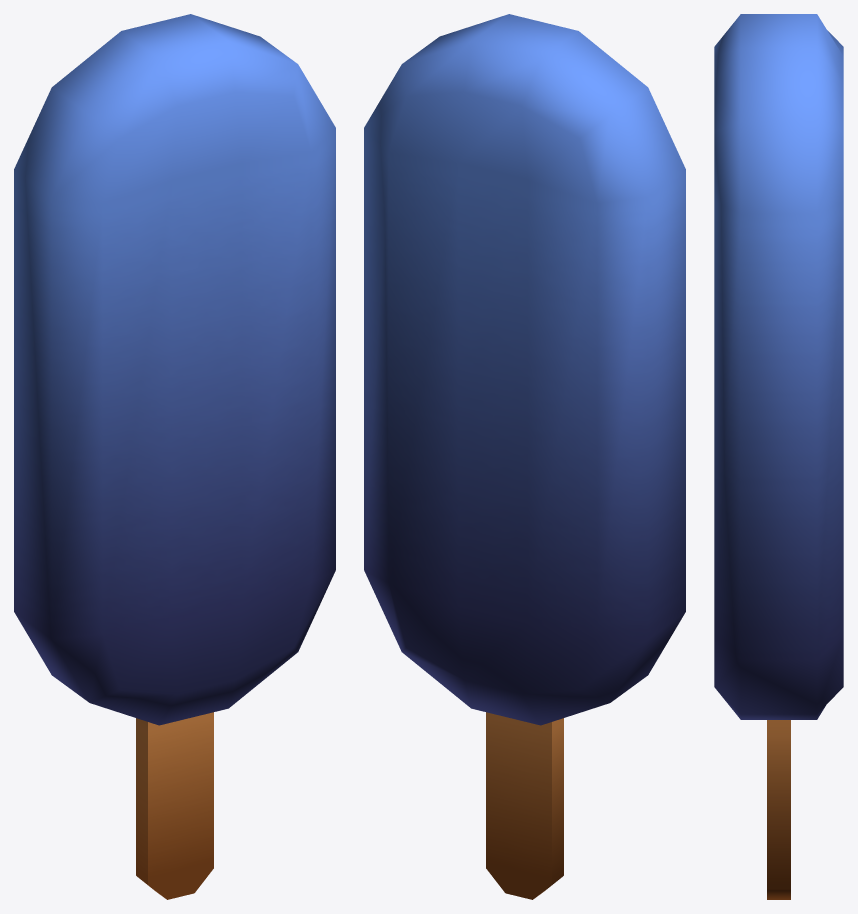
The model's file is m_Popsicle06.fbx.
3 views of the same model, side by side, from view 1: azimuth 30°, elevation 25°; view 2: azimuth 150°, elevation 25°; view 3: azimuth 270°, elevation 25° (orthographic).
Visible parts, largest first — view 1: m_Popsicle06; view 2: m_Popsicle06; view 3: m_Popsicle06.
Part boxes in pixels (left/top/right/bottom): m_Popsicle06: left=14, top=14, right=335, bottom=899; m_Popsicle06: left=364, top=14, right=685, bottom=899; m_Popsicle06: left=714, top=14, right=843, bottom=899.
Bounding box in the file's own units: 7.98 × 22.99 × 3.12.
